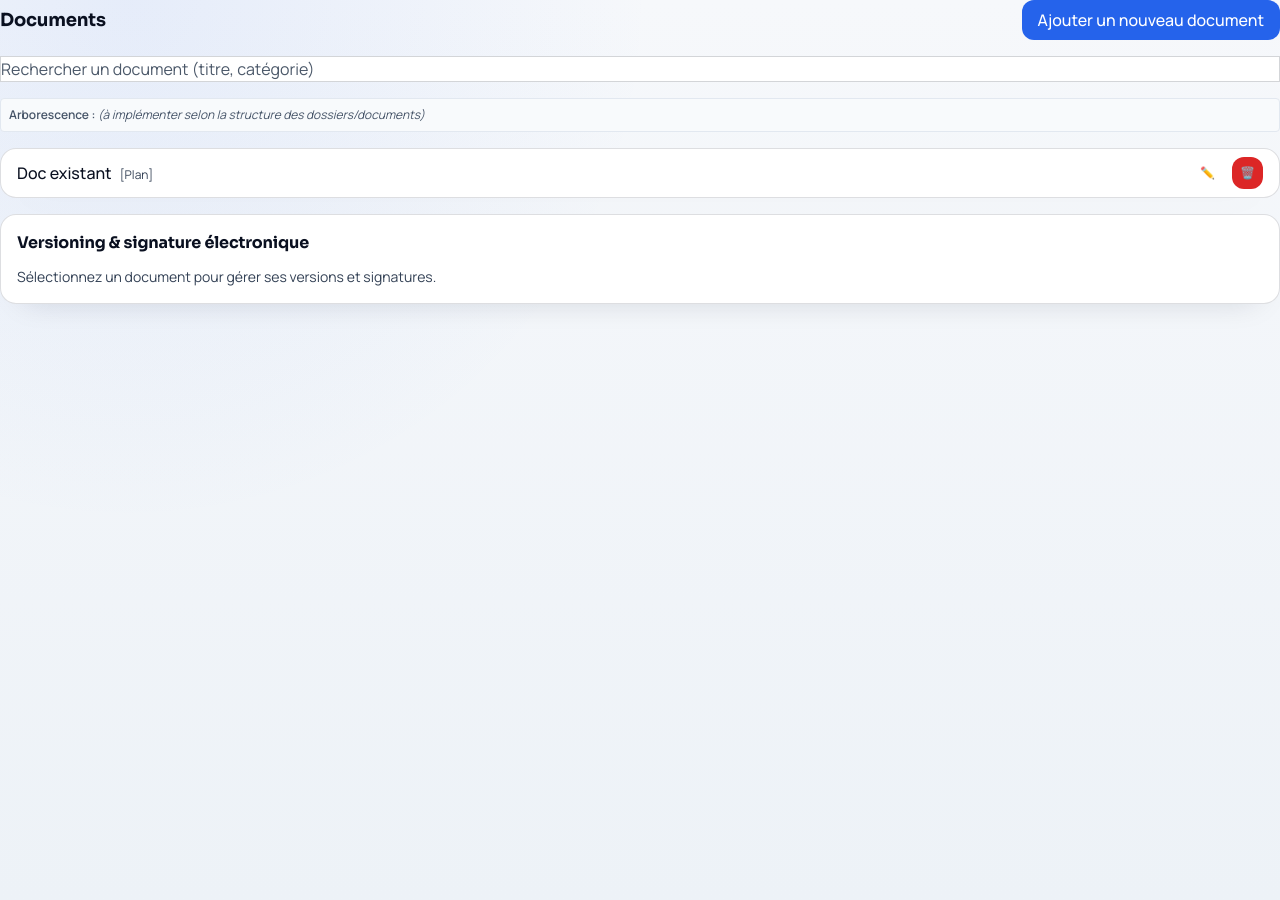
Test: DocumentList › affiche la liste des documents et permet d’en ajouter
The width and height of the screenshot is (1280, 900).
Expected: the heading "Documents" is shown, [0, 6, 106, 34]
Click the button "Ajouter un nouveau document": [1151, 20] box [1022, 0, 1279, 40]
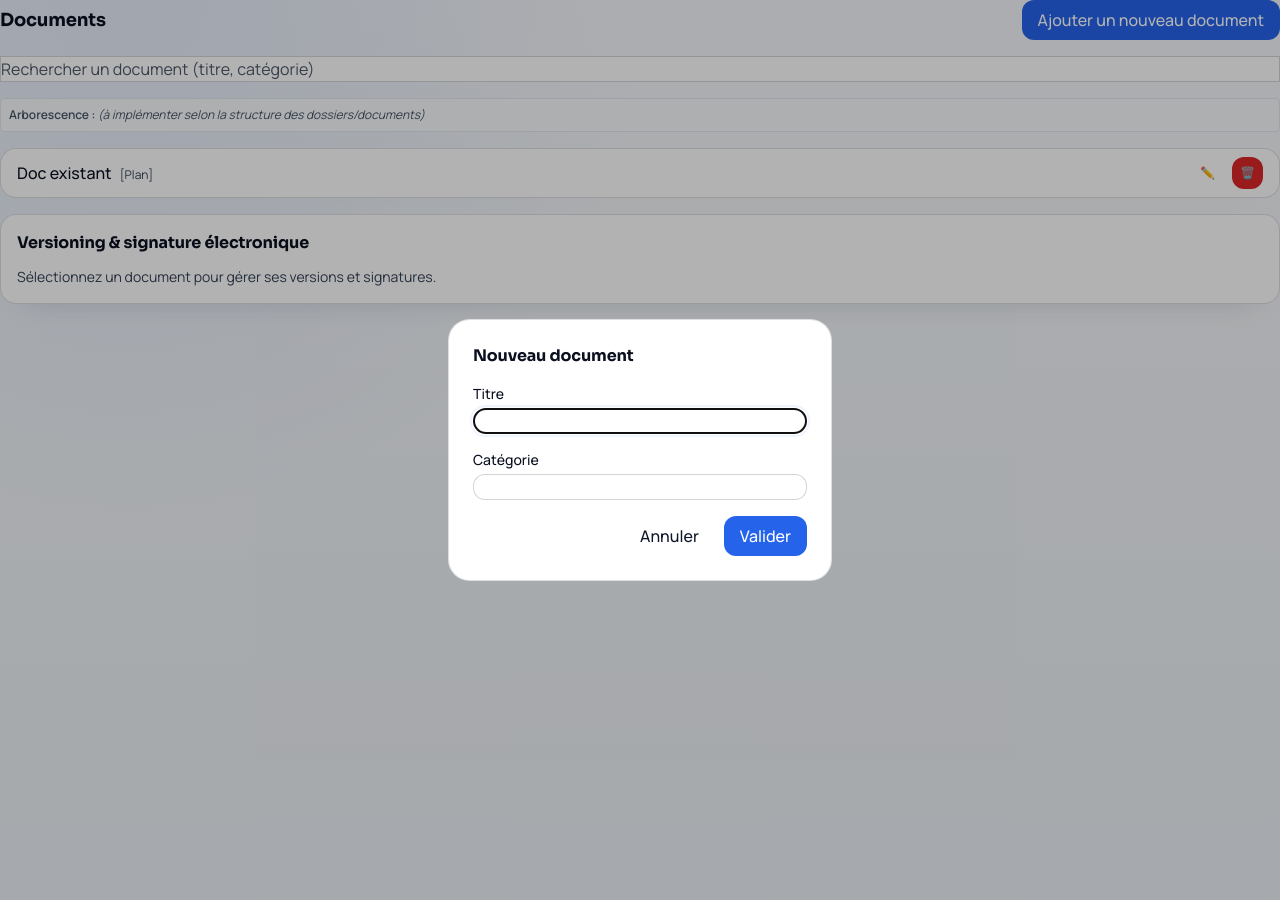
In the field labelled "Titre": [640, 421] box [473, 408, 807, 434], type "Doc test"
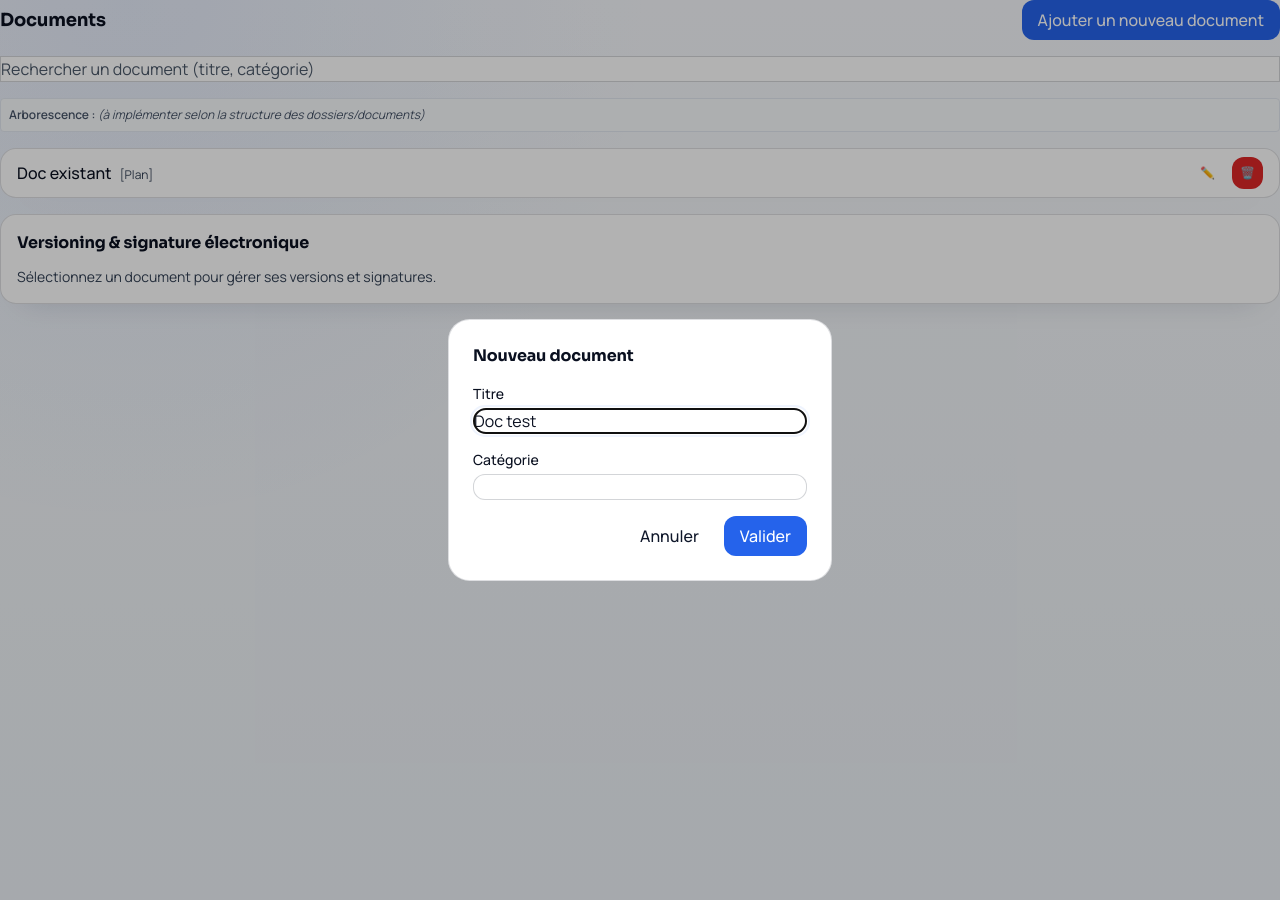
Click the button "Valider": [765, 536] box [724, 516, 807, 556]
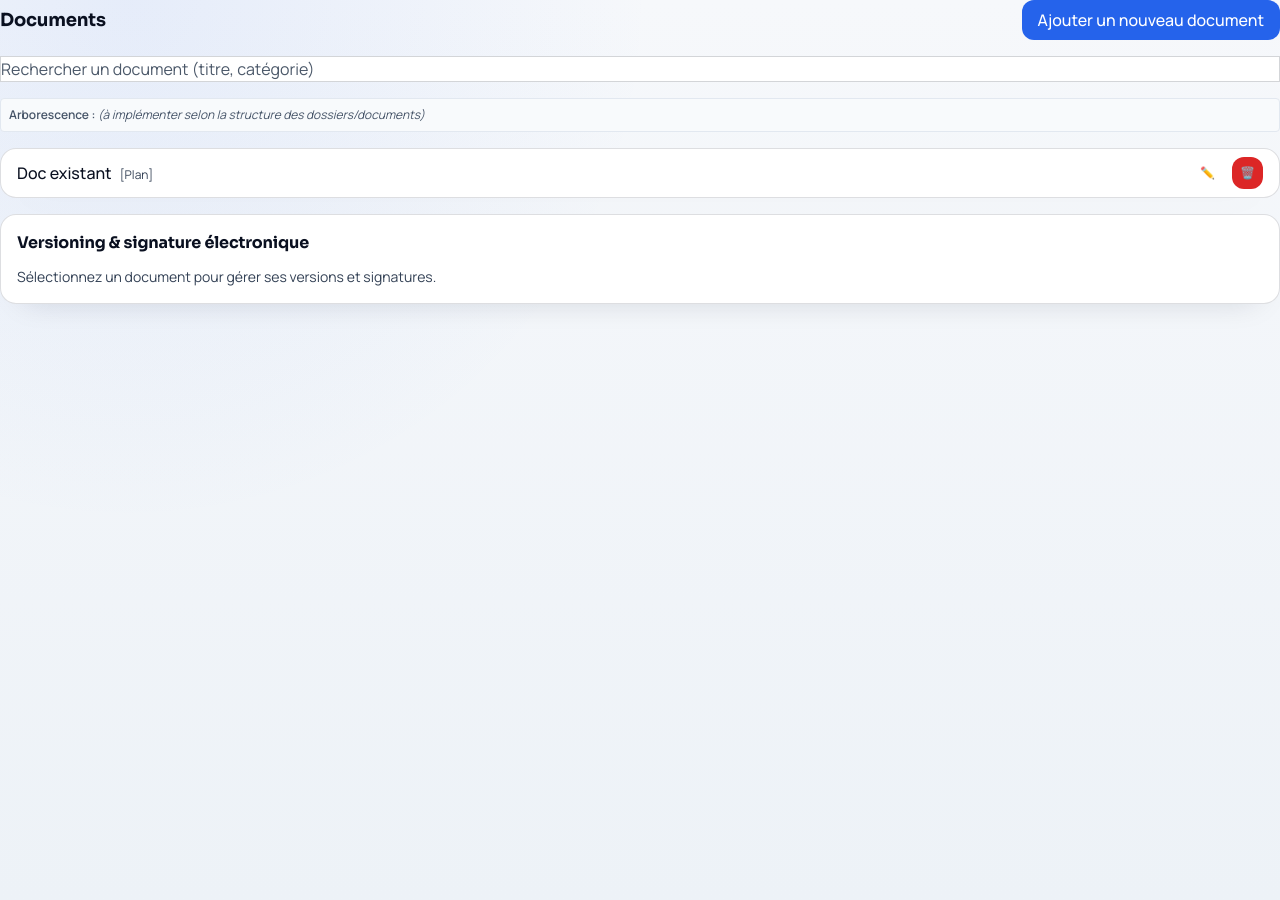
Now the dialog is gone
